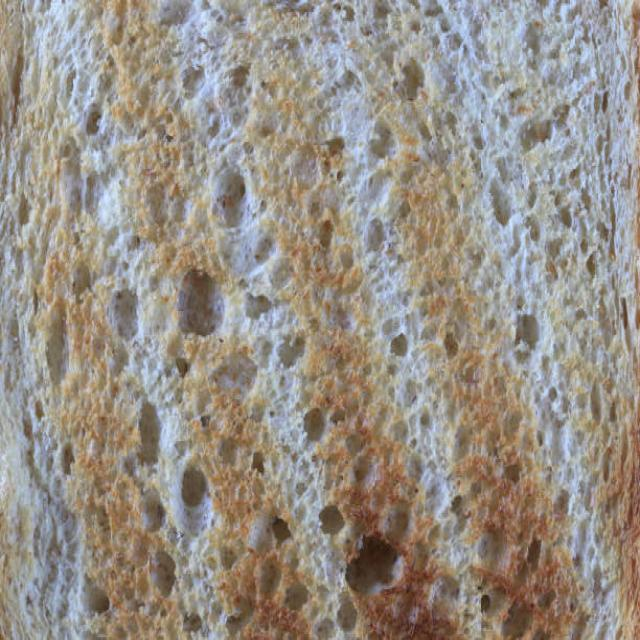paper: (28, 16, 573, 621)
